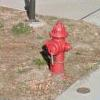Hydrant: (39, 15, 76, 80)
